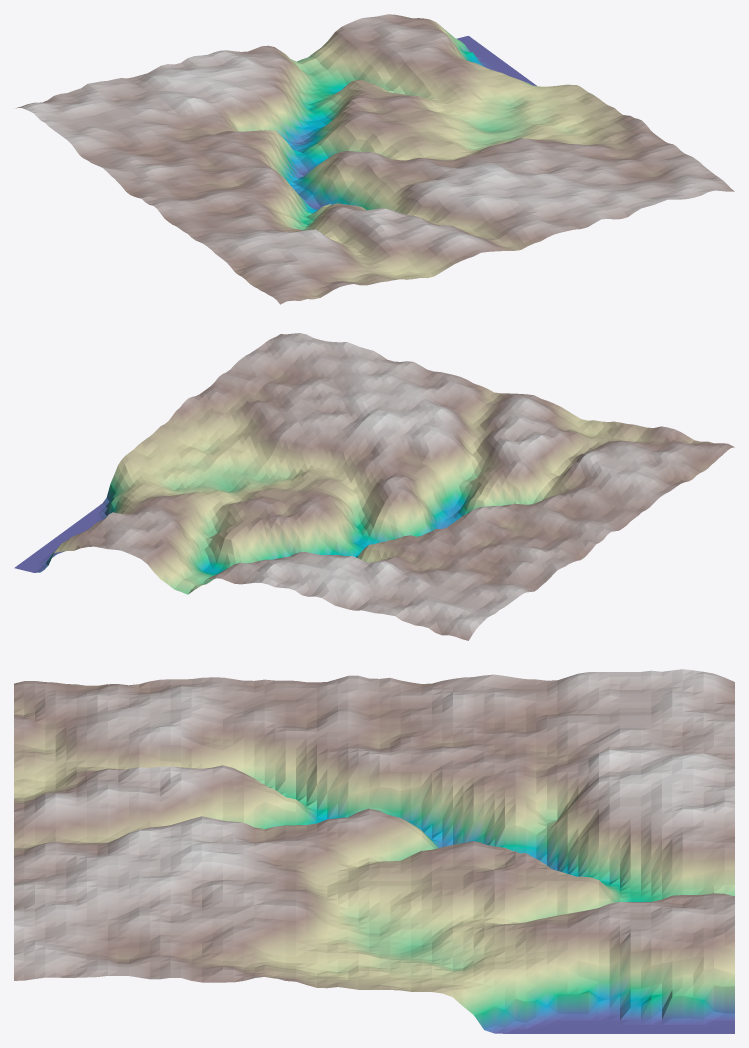
The model's file is 003287_terrain_only.glb.
The picture shows the model from 3 angles, top to bottom: view 1: azimuth 30°, elevation 25°; view 2: azimuth 150°, elevation 25°; view 3: azimuth 270°, elevation 25°; orthographic projection. The views are drawn at different scales.
Visible parts, largest first — view 1: terrain; view 2: terrain; view 3: terrain.
Boxes of the visible parts, x1,y1,x2,y2 form: terrain: (16, 14, 734, 304); terrain: (14, 333, 734, 640); terrain: (14, 669, 734, 1033).
Bounding box in the file's own units: 0.0183 × 0.00193 × 0.0186.
